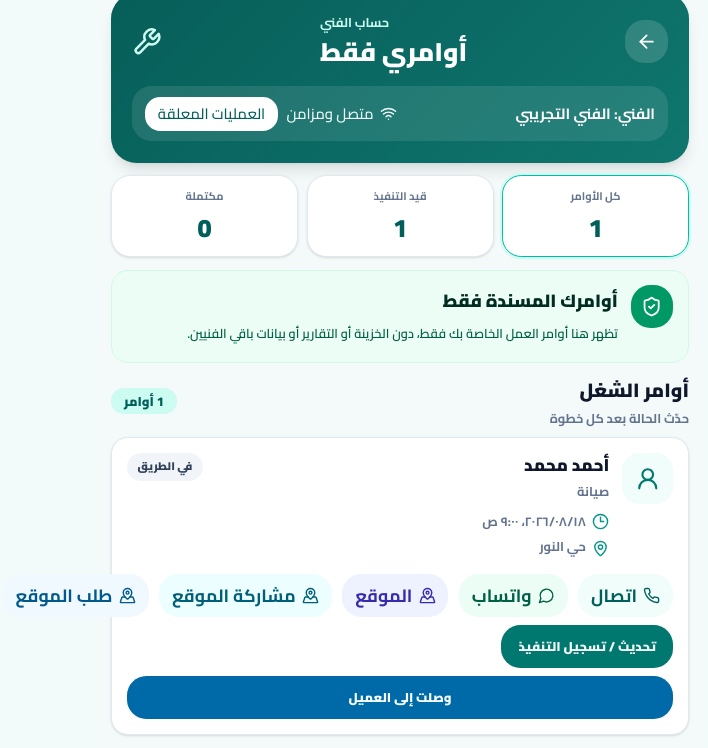
Scenario: واجهة الفني وأوامر العمل › تفتح نموذج الإغلاق للأمر الجاري وتعرض حقول النتيجة والتحصيل
Click the button "تحديث / تسجيل التنفيذ": (587, 646) [501, 625, 673, 668]
(page scrolled)
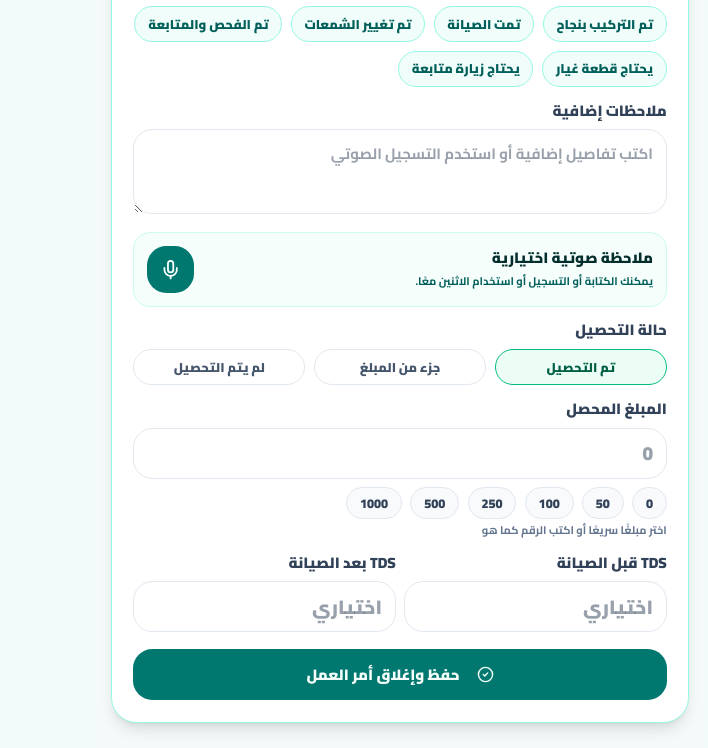
Result: the field labelled "المبلغ المحصل" is shown at [133, 428, 667, 479]
